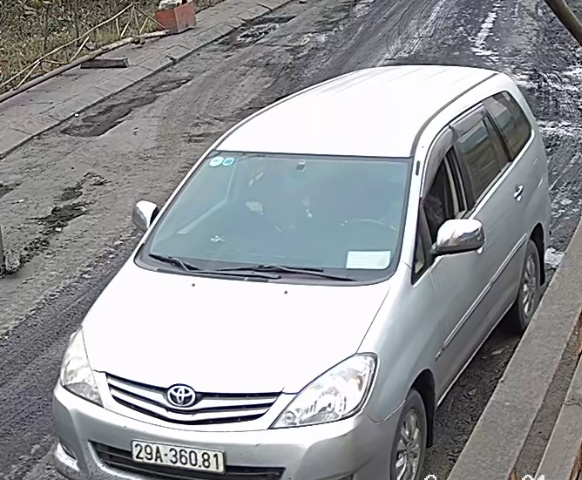vehicle plate: (131, 436, 227, 473)
